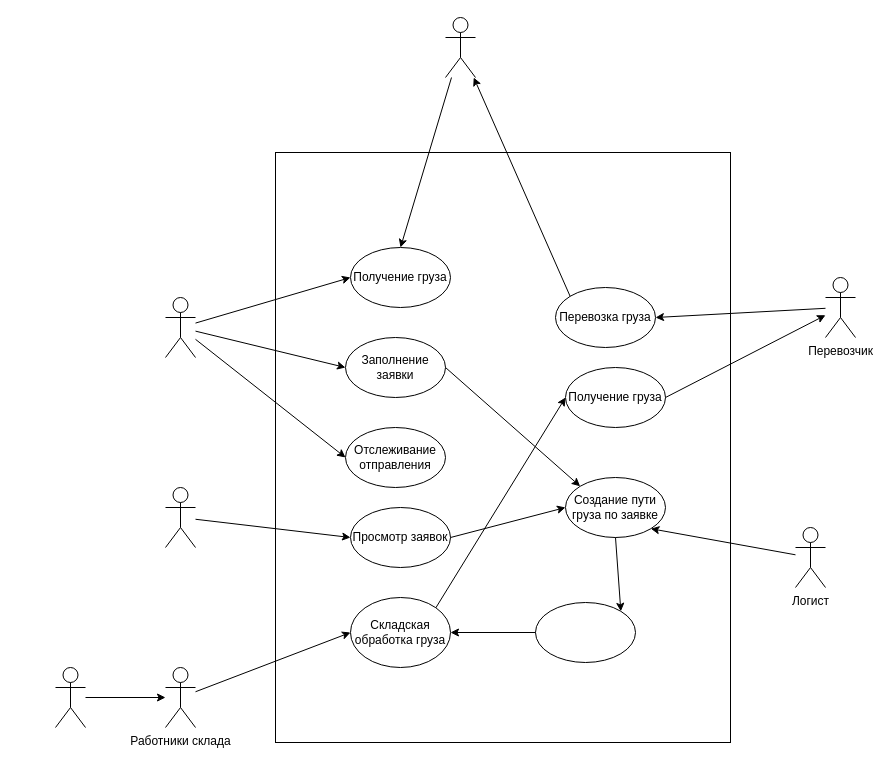
This 890x766 diagram has some shape labels left out. The centre of each missing label's shape, as x and y in pixels:
Администратор: (180,517)
Аэропорт назначения: (460,47)
Аэропорт отправки: (70,697)
Пользователь: (180,327)
Прибытие груза в аэропорт отправки: (585,632)
